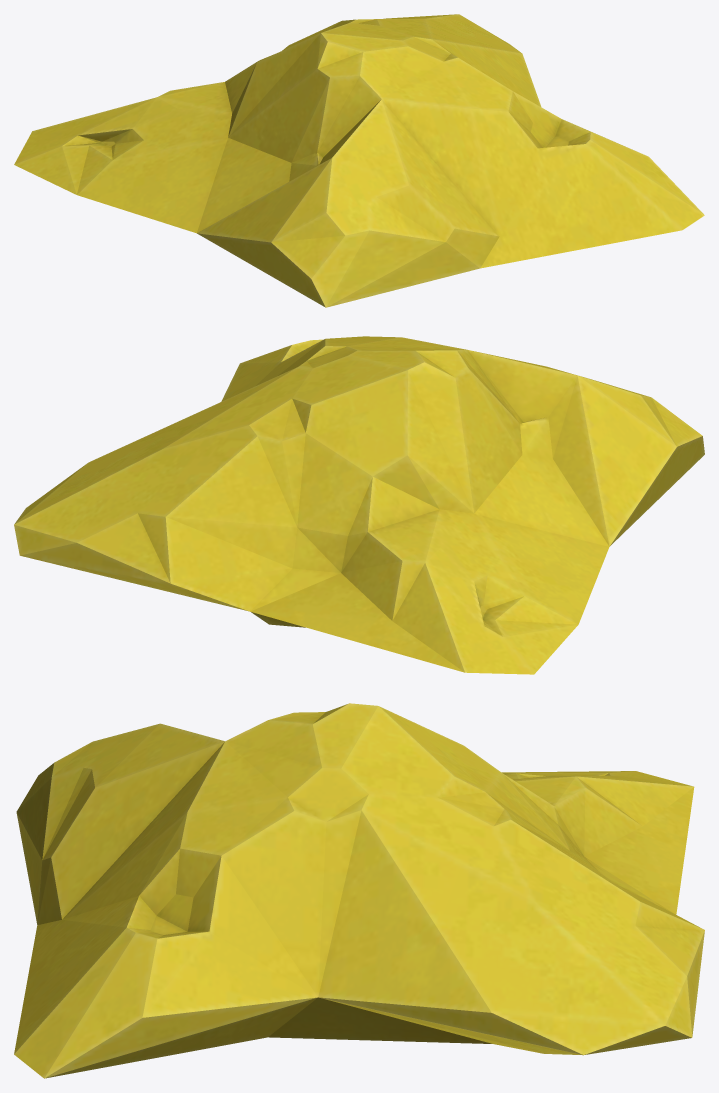
The model's file is GoldJunkCast_Polished.glb.
3 views of the same model, one above another, from view 1: azimuth 30°, elevation 25°; view 2: azimuth 150°, elevation 25°; view 3: azimuth 270°, elevation 25° (orthographic). The views are drawn at different scales.
Parts seen in each view (by area): view 1: GoldJunkCast_Polished; view 2: GoldJunkCast_Polished; view 3: GoldJunkCast_Polished.
Part boxes in pixels (box(x1,y1,x2,y2)): GoldJunkCast_Polished: box(14, 14, 704, 307); GoldJunkCast_Polished: box(14, 336, 704, 674); GoldJunkCast_Polished: box(14, 703, 704, 1078).
Size of the model in its own units: 0.5571 by 0.1926 by 0.5258.
Materials: 1 (1 with a texture image).
